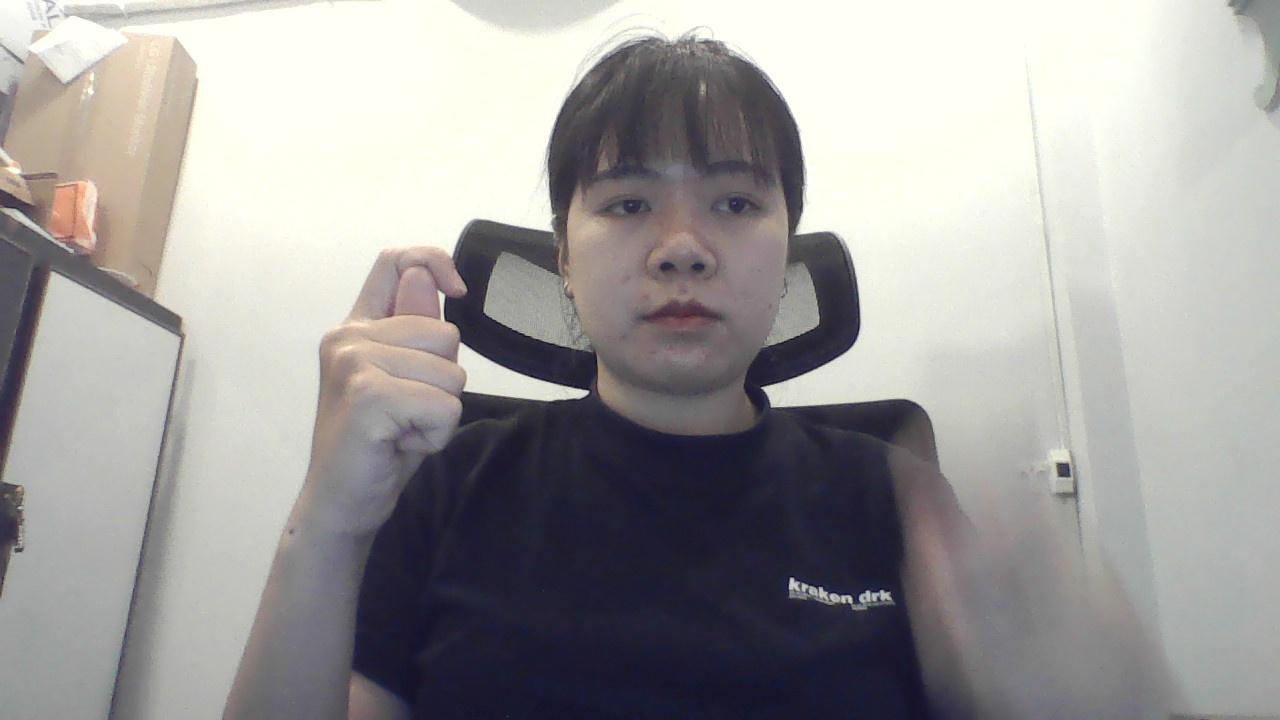X: (288, 229, 506, 535)
